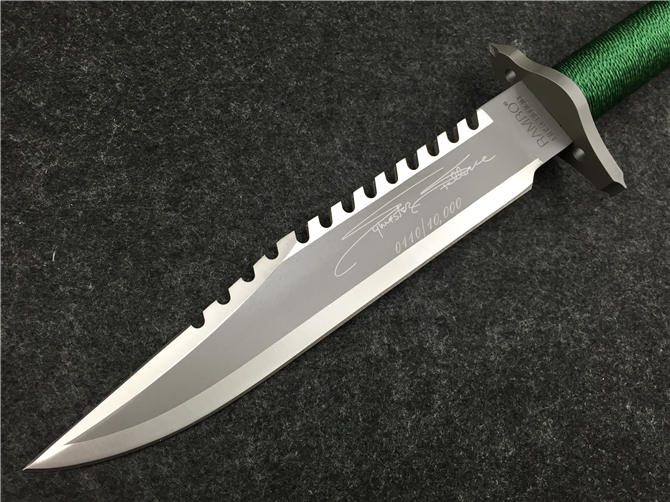knief: (13, 14, 663, 483)
